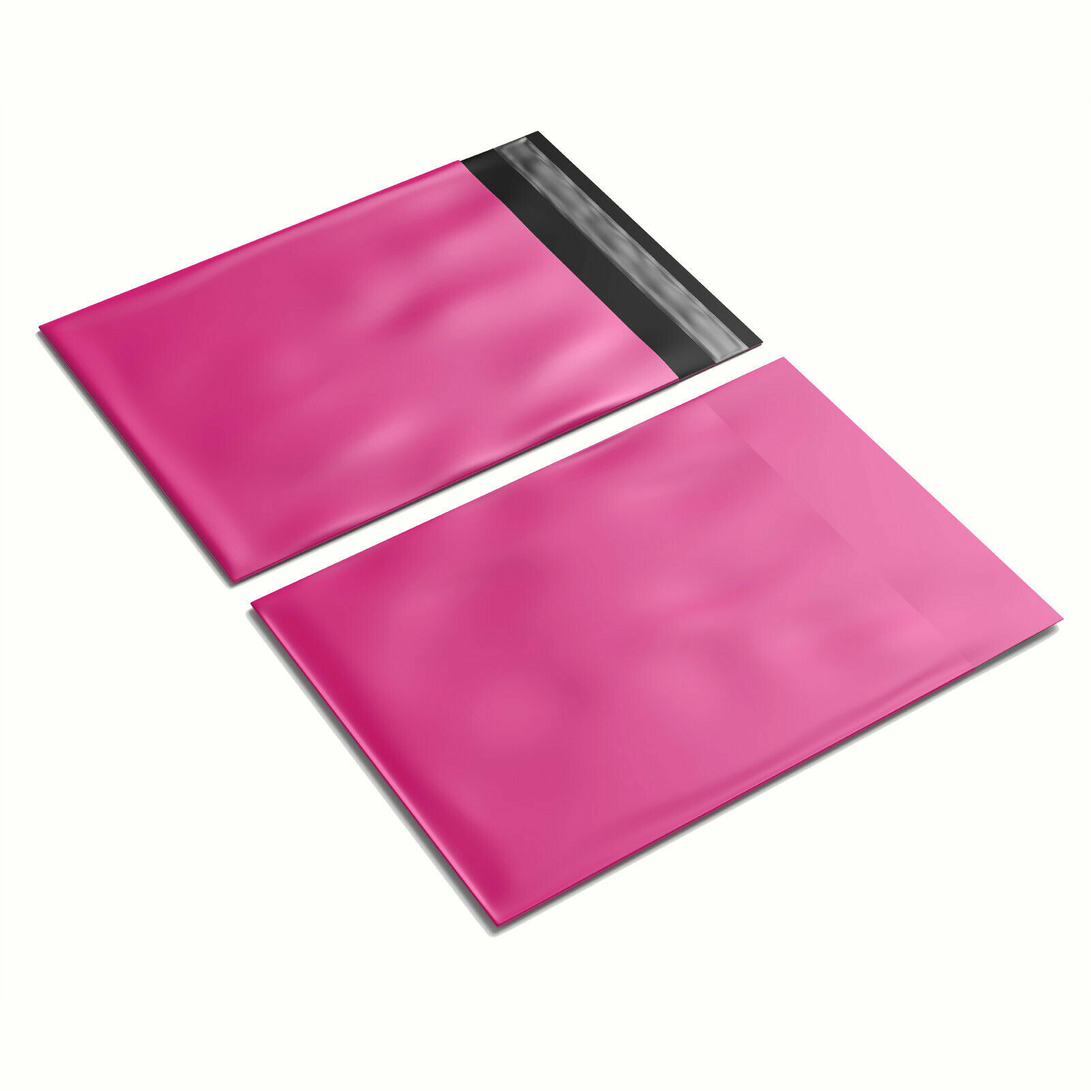塑料袋: (253, 358, 1061, 926), (40, 132, 761, 583)
